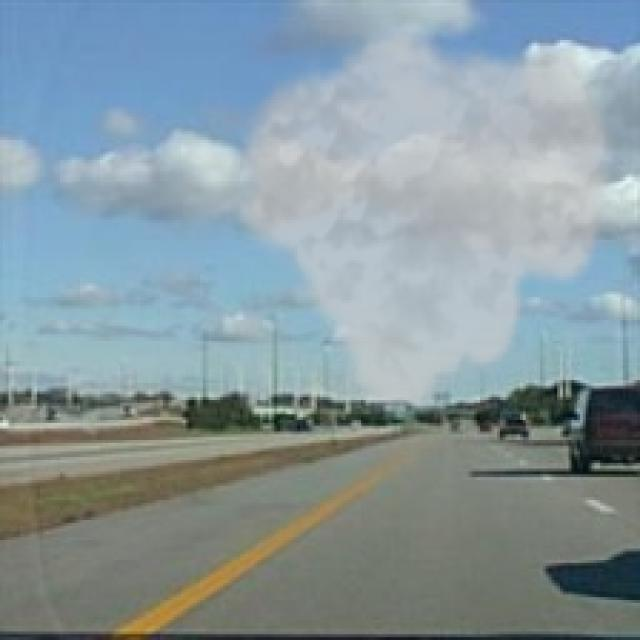smoke: (229, 28, 620, 423)
